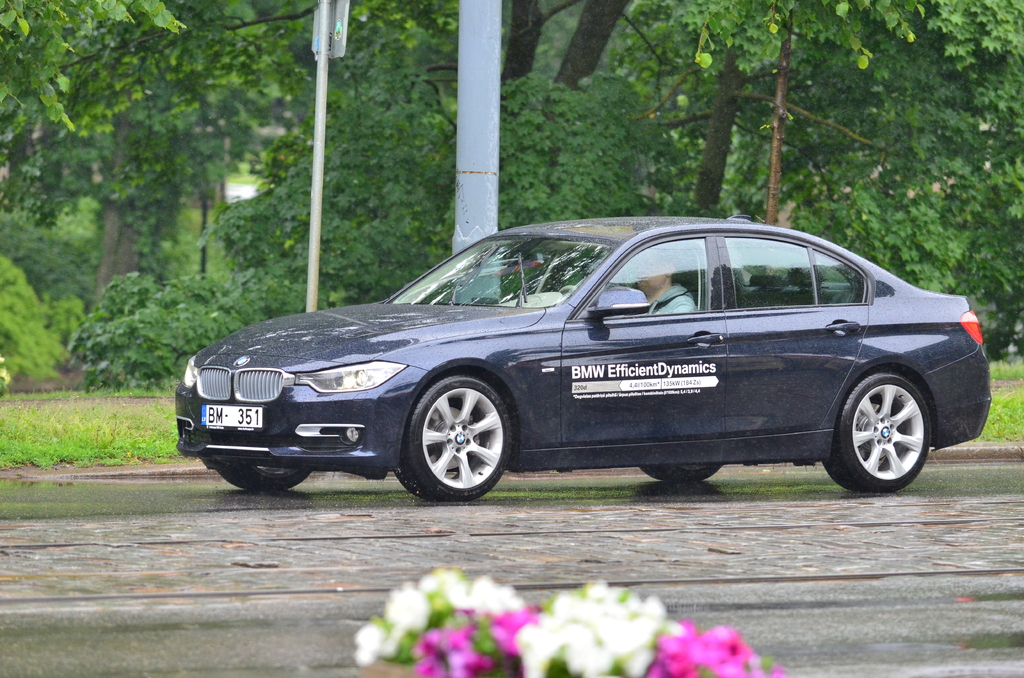Tree: (0, 0, 1022, 388)
